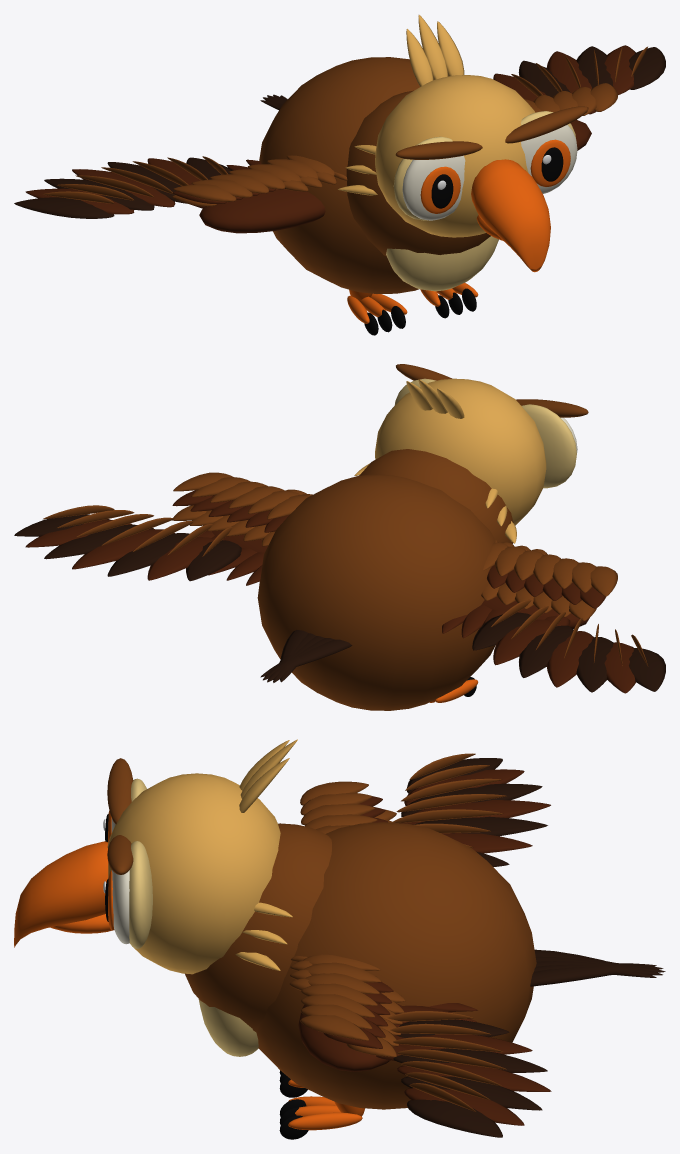
Rendered from Eagle_02_Dumpling.fbx.
3 views of the same model, one above another, from view 1: azimuth 30°, elevation 25°; view 2: azimuth 150°, elevation 25°; view 3: azimuth 270°, elevation 25° (orthographic). The views are drawn at different scales.
Visible parts, largest first — view 1: Body, LeftWingMesh, RightWingMesh; view 2: Body, LeftWingMesh, RightWingMesh; view 3: Body, RightWingMesh, LeftWingMesh.
Boxes of the visible parts, bbox=[...] form: Body: bbox=[259, 15, 588, 335]; LeftWingMesh: bbox=[14, 155, 347, 233]; RightWingMesh: bbox=[493, 45, 665, 150]; Body: bbox=[257, 364, 588, 710]; LeftWingMesh: bbox=[442, 540, 665, 693]; RightWingMesh: bbox=[14, 472, 312, 585]; Body: bbox=[14, 739, 665, 1139]; RightWingMesh: bbox=[289, 954, 551, 1137]; LeftWingMesh: bbox=[300, 753, 550, 866].
Size of the model in its own units: 398 by 182 by 289.
